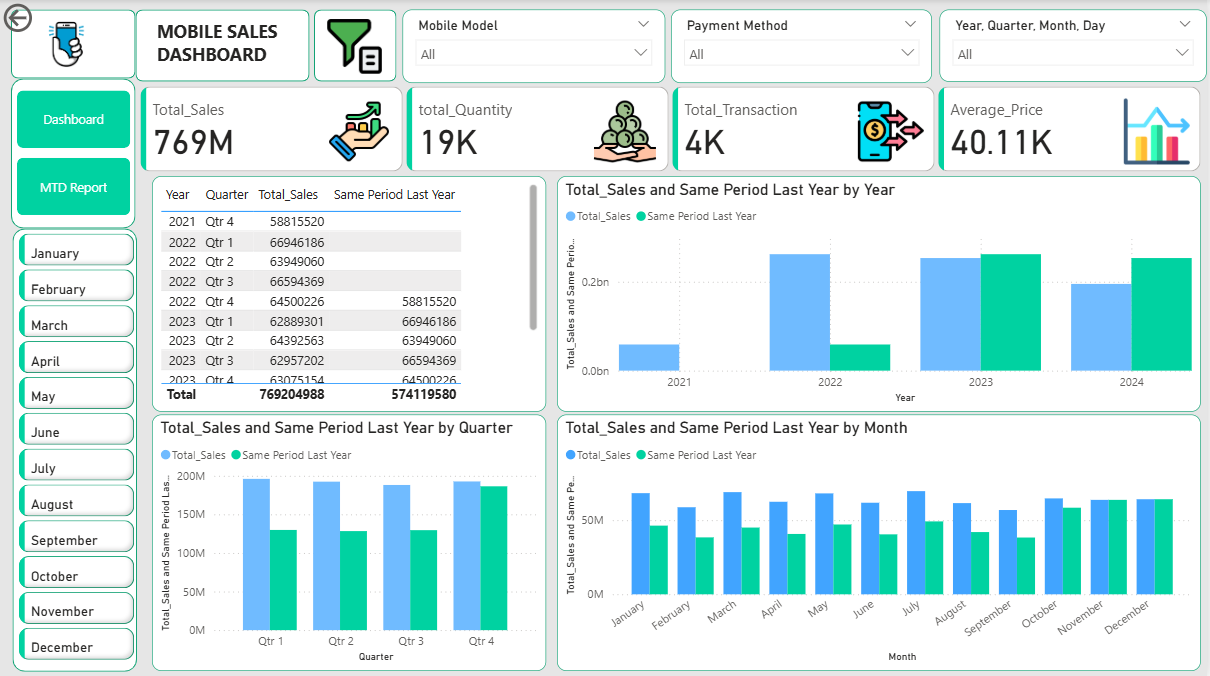

The page's visual inventory and layout, read from the dashboard file:
{"tool":"powerbi","page":{"name":"Same period last year","canvas":[1280,720],"ordinal":2},"visuals":[{"type":"shape","box":[14.3,243.4,132,470],"z":0},{"type":"shape","box":[12.7,11.1,132,73.2],"z":1000},{"type":"image","box":[12.7,11.1,117.7,73.2],"z":2000},{"type":"shape","box":[12.7,84.3,132,159.1],"z":3000},{"type":"cardVisual","fields":{"Data":["Mobile _Sales_ Data.Total_Sales","Mobile _Sales_ Data.total_Quantity","Mobile _Sales_ Data.Total_Transaction","Mobile _Sales_ Data.Average_Price"]},"box":[144.7,87.5,1135.7,100.2],"z":4000},{"type":"slicer","fields":{"Values":["Mobile _Sales_ Data.Mobile Model"]},"box":[427.9,11.1,278.4,77.9],"z":5000},{"type":"slicer","fields":{"Values":["Mobile _Sales_ Data.Payment Method"]},"box":[712.6,11.1,276.8,77.9],"z":6000},{"type":"slicer","fields":{"Values":["custom_calendar.Date.Variation.Date Hierarchy.Year","custom_calendar.Date.Variation.Date Hierarchy.Quarter","custom_calendar.Date.Variation.Date Hierarchy.Month","custom_calendar.Date.Variation.Date Hierarchy.Day"]},"box":[1000.5,9.5,267.2,77.9],"z":7000},{"type":"shape","box":[329.3,11.1,87.5,76.3],"z":8000},{"type":"image","box":[313.4,20.7,114.5,68.4],"z":9000},{"type":"shape","box":[396.1,33.4,31.8,35],"z":10000},{"type":"shape","box":[144.7,11.1,184.5,76.3],"z":11000},{"type":"textbox","box":[162.2,15.9,149.5,65.2],"z":12000},{"type":"actionButton","box":[0,0,100,40],"z":13000},{"type":"advancedSlicerVisual","fields":{"Values":["custom_calendar.Date.Variation.Date Hierarchy.Month"]},"box":[15.9,243.4,132,469.2],"z":14000},{"type":"tableEx","fields":{"Values":["custom_calendar.Date.Variation.Date Hierarchy.Year","custom_calendar.Date.Variation.Date Hierarchy.Quarter","Mobile _Sales_ Data.Total_Sales","Mobile _Sales_ Data.Same Period Last Year"]},"box":[162.2,187.7,418.3,249.7],"z":15000},{"type":"clusteredColumnChart","fields":{"Category":["custom_calendar.Date.Variation.Date Hierarchy.Year","custom_calendar.Date.Variation.Date Hierarchy.Quarter"],"Y":["Mobile _Sales_ Data.Total_Sales","Mobile _Sales_ Data.Same Period Last Year"]},"box":[591.7,187.7,682.4,249.7],"z":16000},{"type":"clusteredColumnChart","fields":{"Y":["Mobile _Sales_ Data.Total_Sales","Mobile _Sales_ Data.Same Period Last Year"],"Category":["custom_calendar.Date.Variation.Date Hierarchy.Year","custom_calendar.Date.Variation.Date Hierarchy.Quarter","custom_calendar.Date.Variation.Date Hierarchy.Month","custom_calendar.Date.Variation.Date Hierarchy.Day"]},"box":[591.7,440.6,682.4,272],"z":17000},{"type":"clusteredColumnChart","fields":{"Category":["custom_calendar.Date.Variation.Date Hierarchy.Year","custom_calendar.Date.Variation.Date Hierarchy.Quarter"],"Y":["Mobile _Sales_ Data.Total_Sales","Mobile _Sales_ Data.Same Period Last Year"]},"box":[162.2,440.6,418.3,272],"z":18000},{"type":"pageNavigator","box":[19.1,97,120.9,133.6],"z":19000}]}

Visuals, with their boxes in screenshot pixels (x1, y1, x2, y2), scaled from the page's 1280x720 canvas onto the 1210x676 screenshot:
shape: 14 229 138 670
shape: 12 10 137 79
image: 12 10 123 79
shape: 12 79 137 229
cardVisual - Mobile _Sales_ Data.Total_Sales x Mobile _Sales_ Data.total_Quantity: 137 82 1209 176
slicer - Mobile _Sales_ Data.Mobile Model: 404 10 668 84
slicer - Mobile _Sales_ Data.Payment Method: 674 10 935 84
slicer - custom_calendar.Date.Variation.Date Hierarchy.Year x custom_calendar.Date.Variation.Date Hierarchy.Quarter: 946 9 1198 82
shape: 311 10 394 82
image: 296 19 404 84
shape: 374 31 404 64
shape: 137 10 311 82
textbox: 153 15 295 76
actionButton: 0 0 95 38
advancedSlicerVisual - custom_calendar.Date.Variation.Date Hierarchy.Month: 15 229 140 669
tableEx - custom_calendar.Date.Variation.Date Hierarchy.Year x custom_calendar.Date.Variation.Date Hierarchy.Quarter: 153 176 549 411
clusteredColumnChart - custom_calendar.Date.Variation.Date Hierarchy.Year x custom_calendar.Date.Variation.Date Hierarchy.Quarter: 559 176 1204 411
clusteredColumnChart - Mobile _Sales_ Data.Total_Sales x Mobile _Sales_ Data.Same Period Last Year: 559 414 1204 669
clusteredColumnChart - custom_calendar.Date.Variation.Date Hierarchy.Year x custom_calendar.Date.Variation.Date Hierarchy.Quarter: 153 414 549 669
pageNavigator: 18 91 132 217
